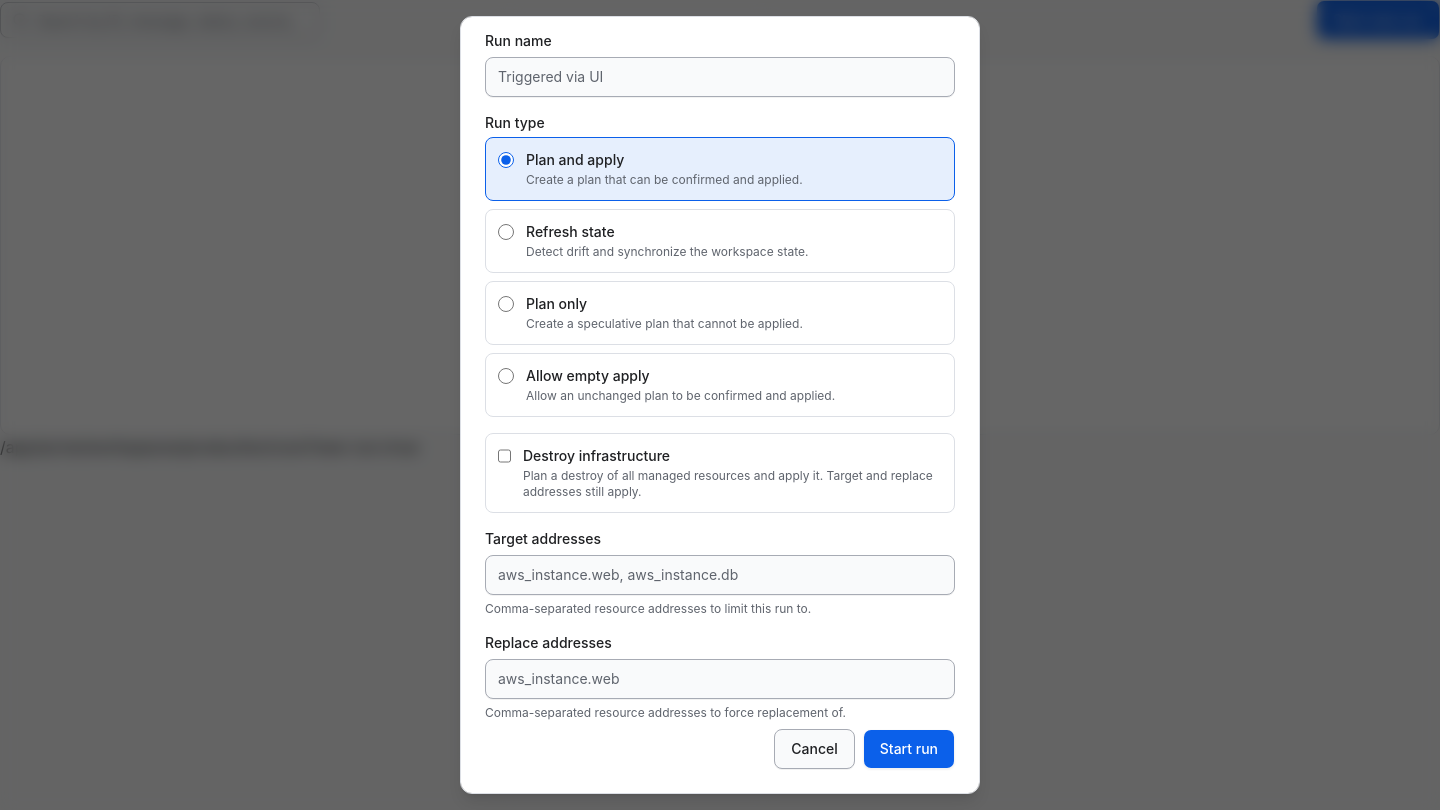
Test case: closing a deep-linked new-run dialog clears the query
(page scrolled)
Expected: the dialog is shown, [460, 16, 980, 794]
Click the button "Cancel". click: (815, 749)
box: [774, 729, 855, 769]
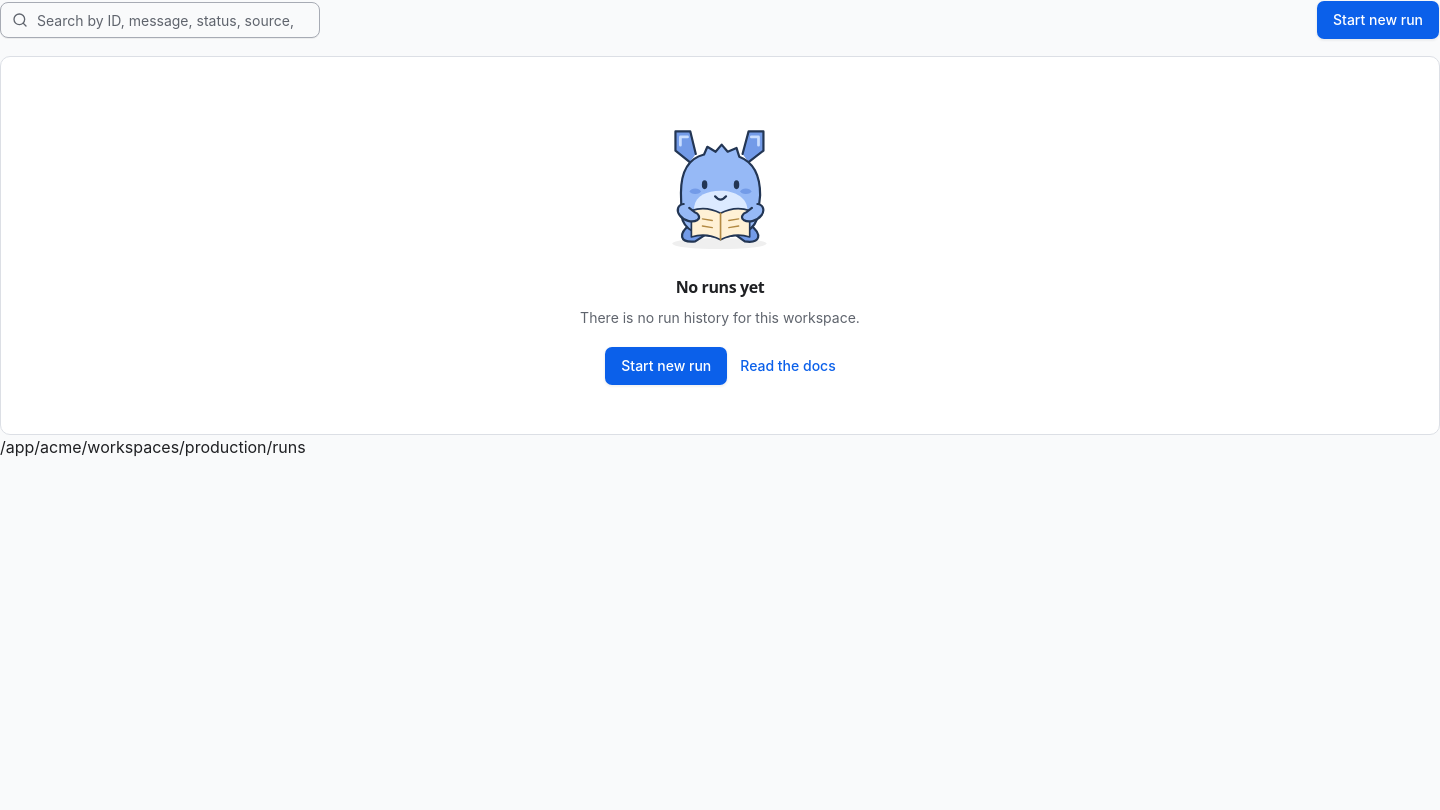
Expected: the dialog is gone
Expected: the text named "Current location" reads "/app/acme/workspaces/production/runs", [0, 437, 306, 457]
